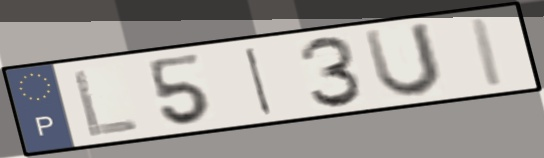3: (296, 34, 366, 111)
5: (142, 51, 215, 130)
I: (465, 14, 510, 91), (242, 44, 277, 119)
L: (68, 66, 144, 140)
U: (359, 19, 447, 100)
